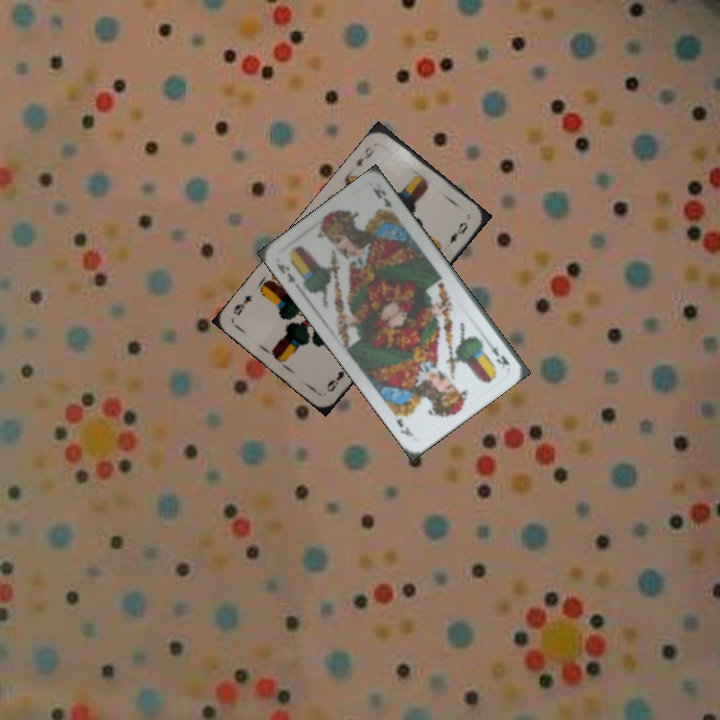E9: (352, 142, 377, 169), (323, 367, 347, 395)
EK: (482, 335, 512, 371), (273, 259, 298, 286)
